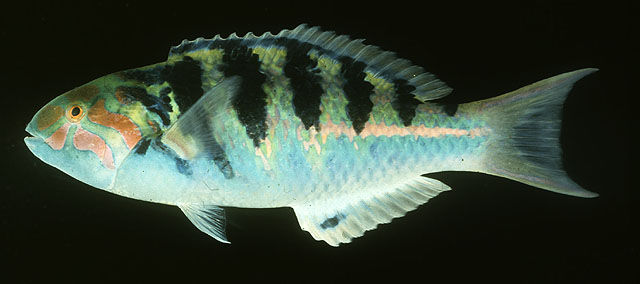fish: (23, 25, 599, 247)
